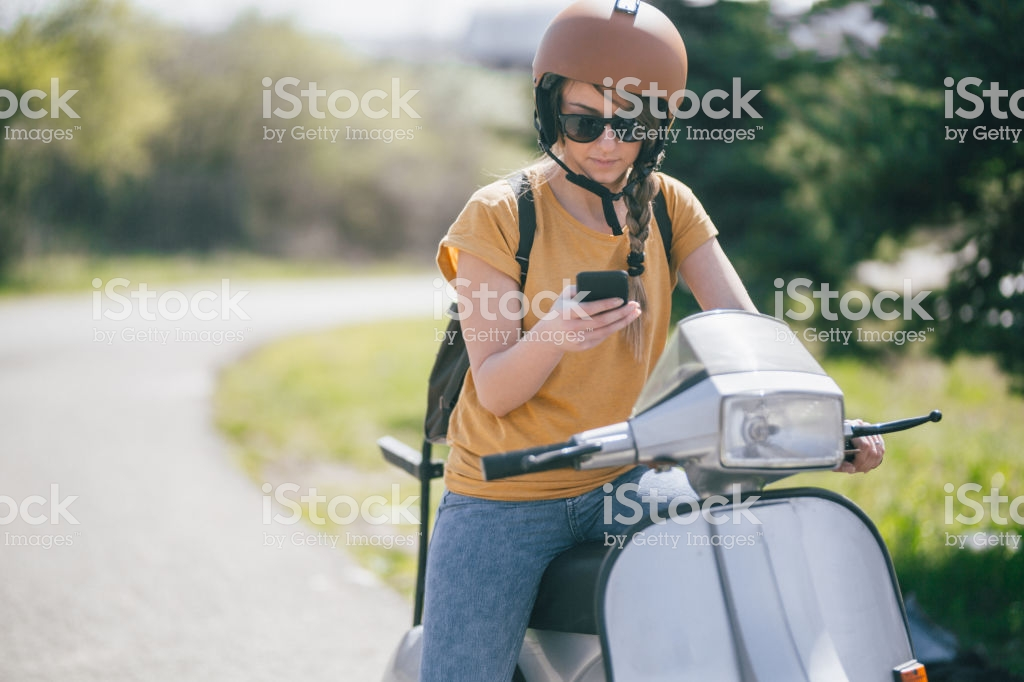helmet: (520, 5, 701, 128)
